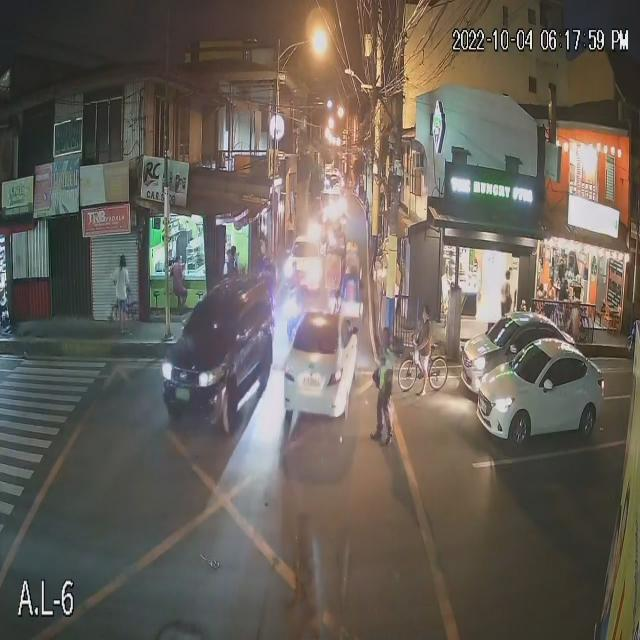motorcycle: (287, 294, 310, 332)
